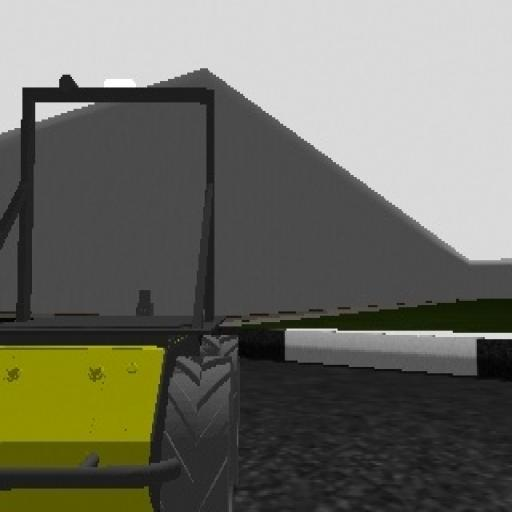huskya200: (0, 45, 266, 512)
